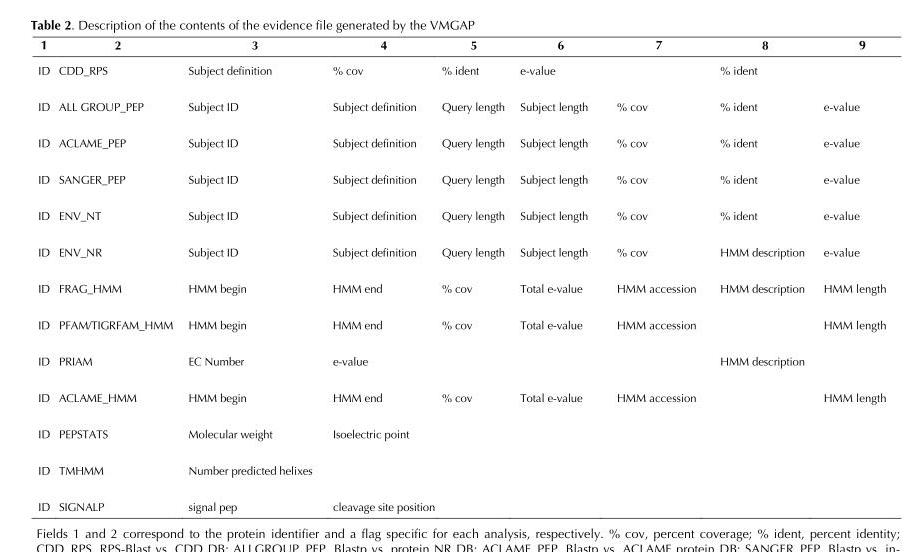table: (37, 36, 885, 513)
table column: (179, 36, 321, 513), (53, 36, 179, 513), (321, 36, 437, 513), (601, 36, 707, 513), (707, 36, 813, 513), (511, 36, 601, 513), (437, 36, 511, 513), (813, 36, 885, 513), (37, 36, 53, 513)
table column header: (37, 36, 885, 57)
table row: (37, 160, 885, 197), (37, 269, 885, 306), (37, 342, 885, 379), (37, 451, 885, 488), (37, 88, 885, 124), (37, 124, 885, 160), (37, 197, 885, 233), (37, 233, 885, 269), (37, 306, 885, 342), (37, 379, 885, 415), (37, 415, 885, 451), (37, 57, 885, 88), (37, 488, 885, 513), (37, 36, 885, 57)
